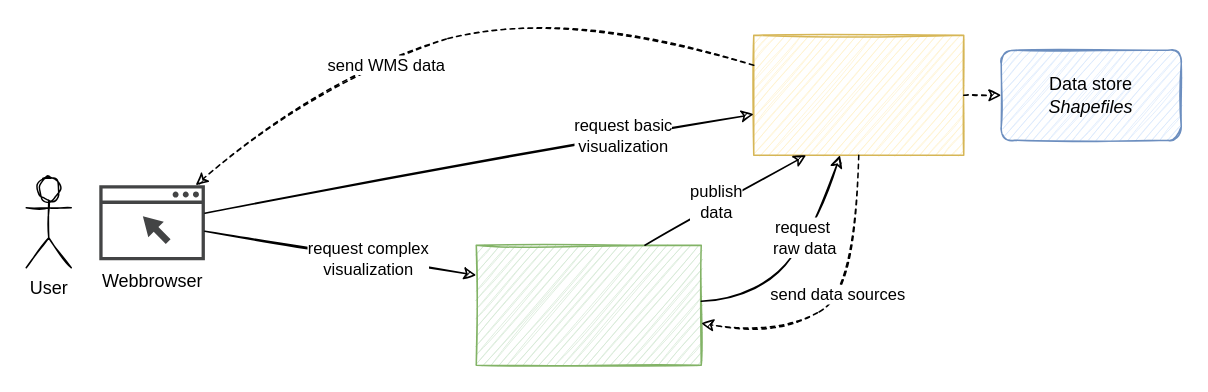
The diagram is 1208 pixels wide and 392 high, and some of its shapes have lost their labels. Each missing label, with the centre of its shape:
"GeoServer WMS / WFS" goes at [858,94].
"Processing Server GeoTools" goes at [588,304].
